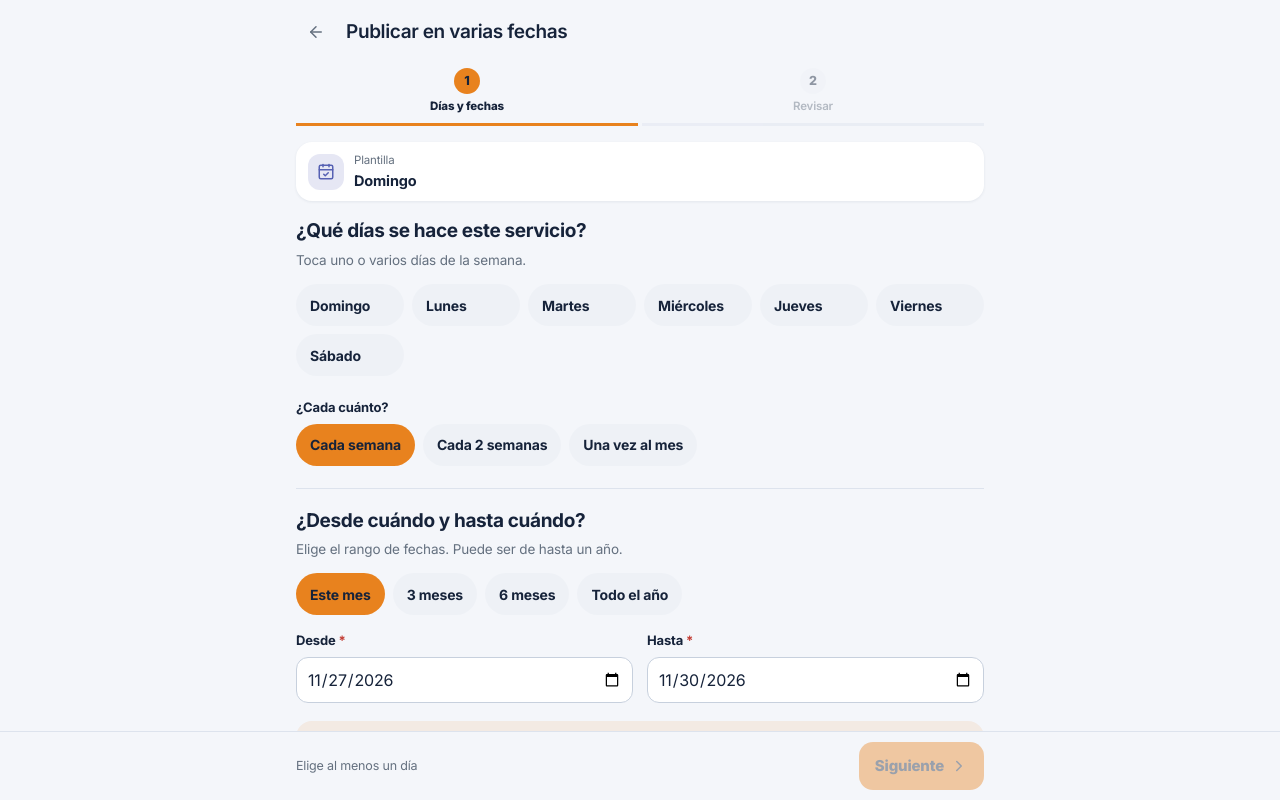
Test: PublicarVariasFechas › no deja elegir un rango mayor a un año
The image size is (1280, 800).
Click the button "Domingo". click: (350,305)
box: x1=296 y1=284 x2=404 y2=326
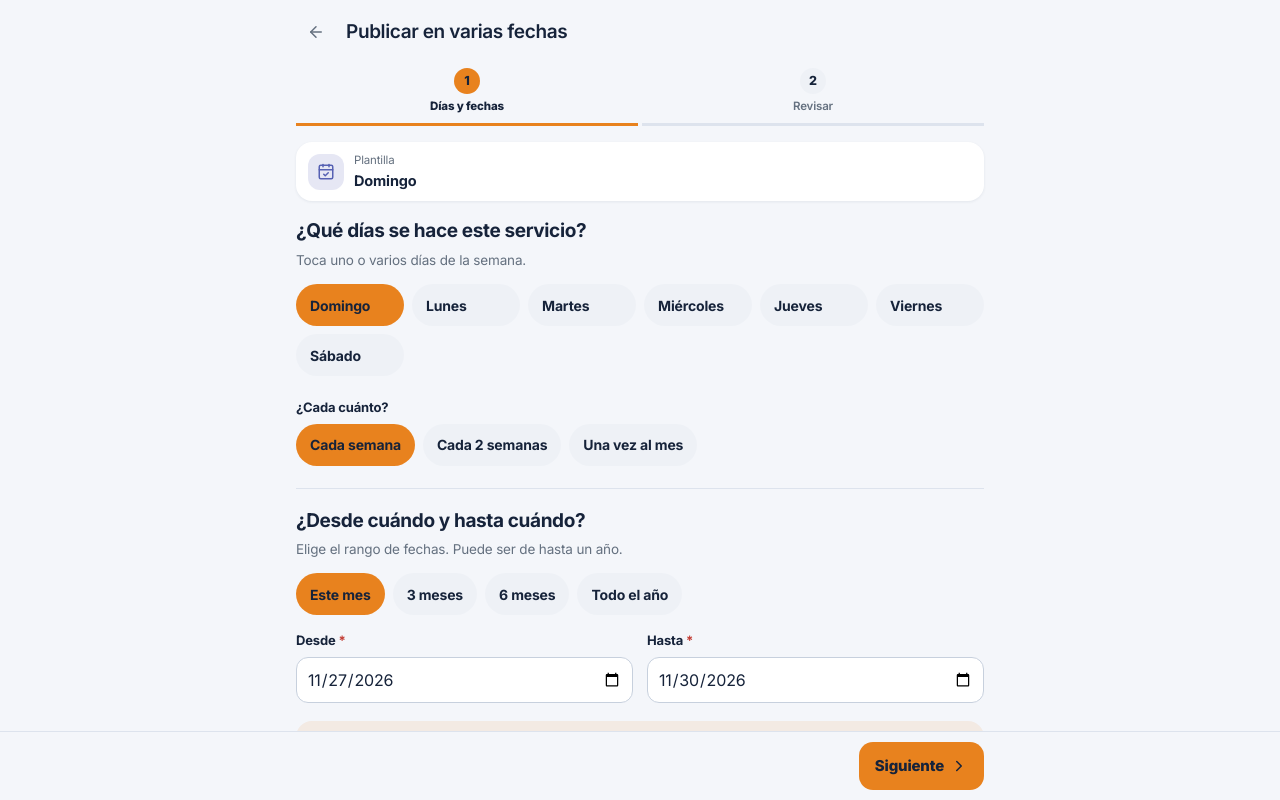
Type "2026-12-01" into the 1st date field. click: (464,680)
box: x1=296 y1=657 x2=633 y2=703
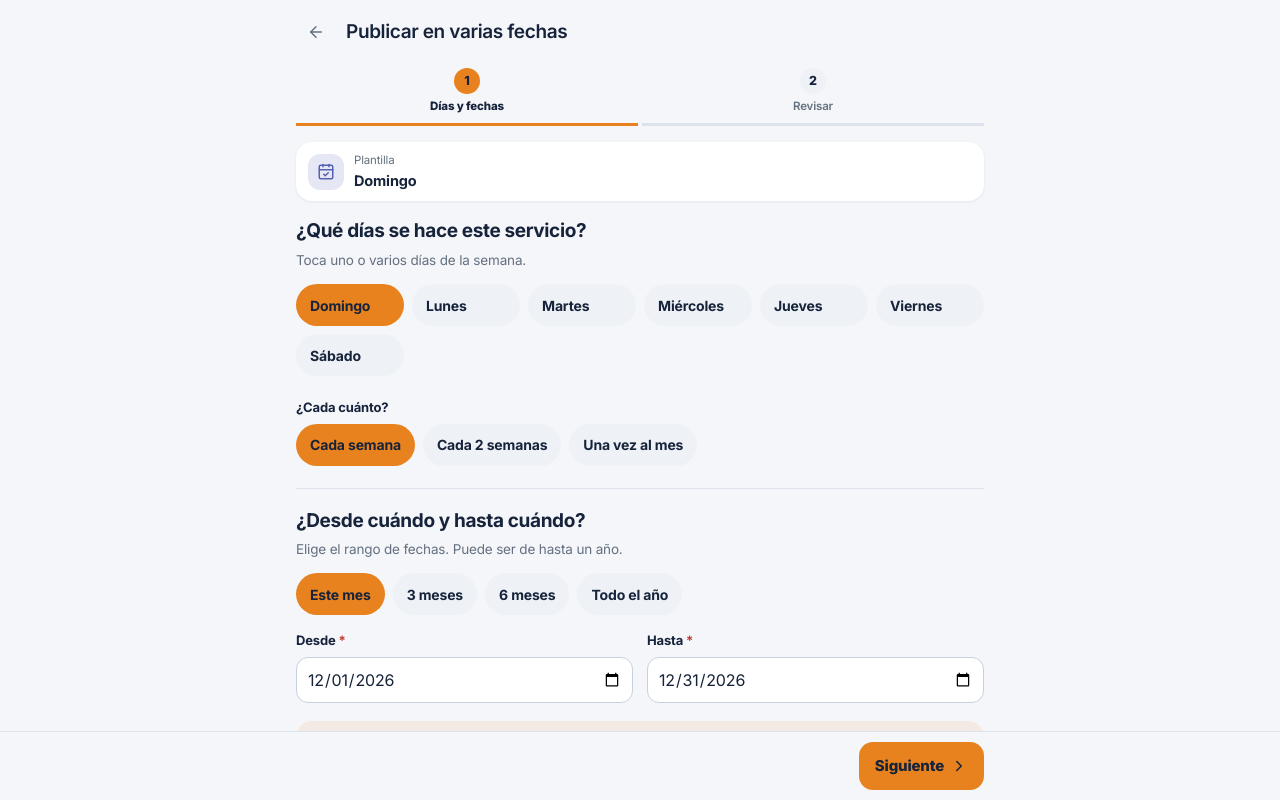
Type "2027-12-15" into the 2nd date field. click: (816,680)
box: x1=647 y1=657 x2=984 y2=703
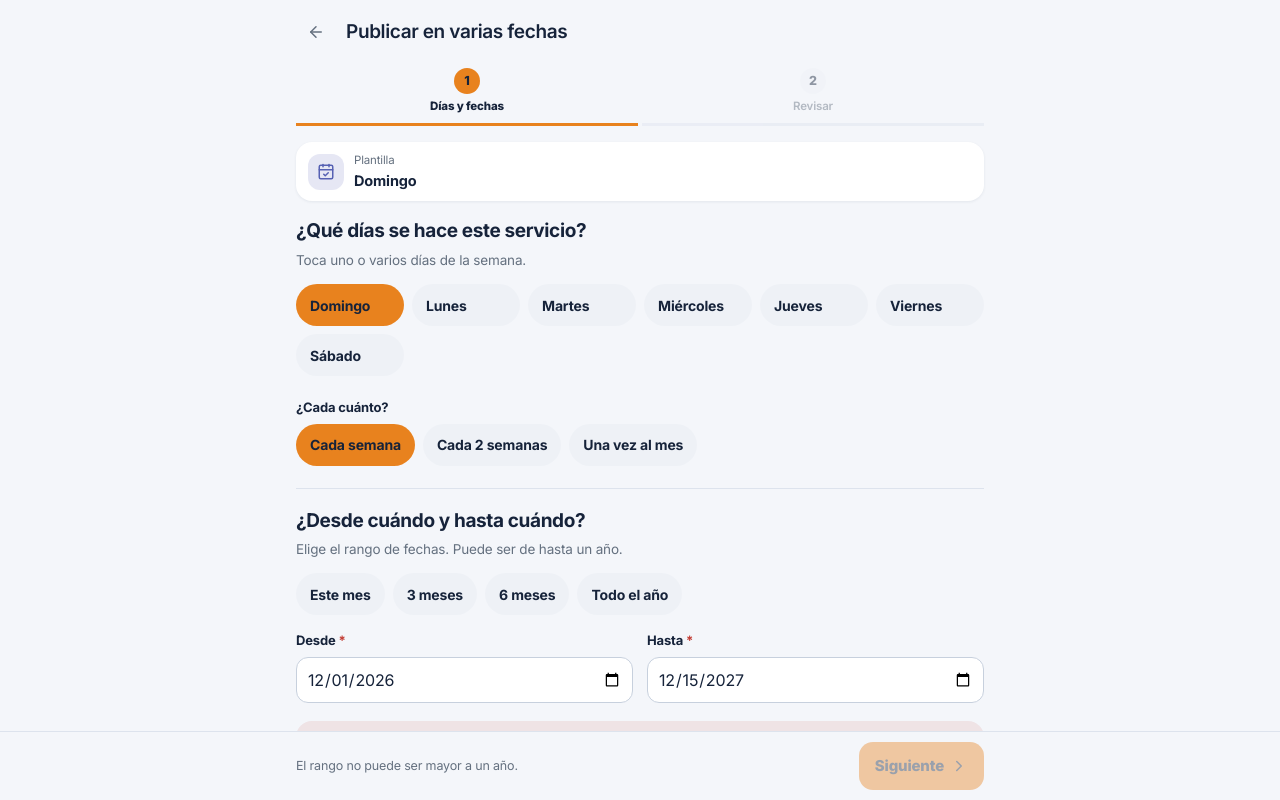
Expected: the button "Siguiente" is disabled, x1=859 y1=742 x2=984 y2=790
